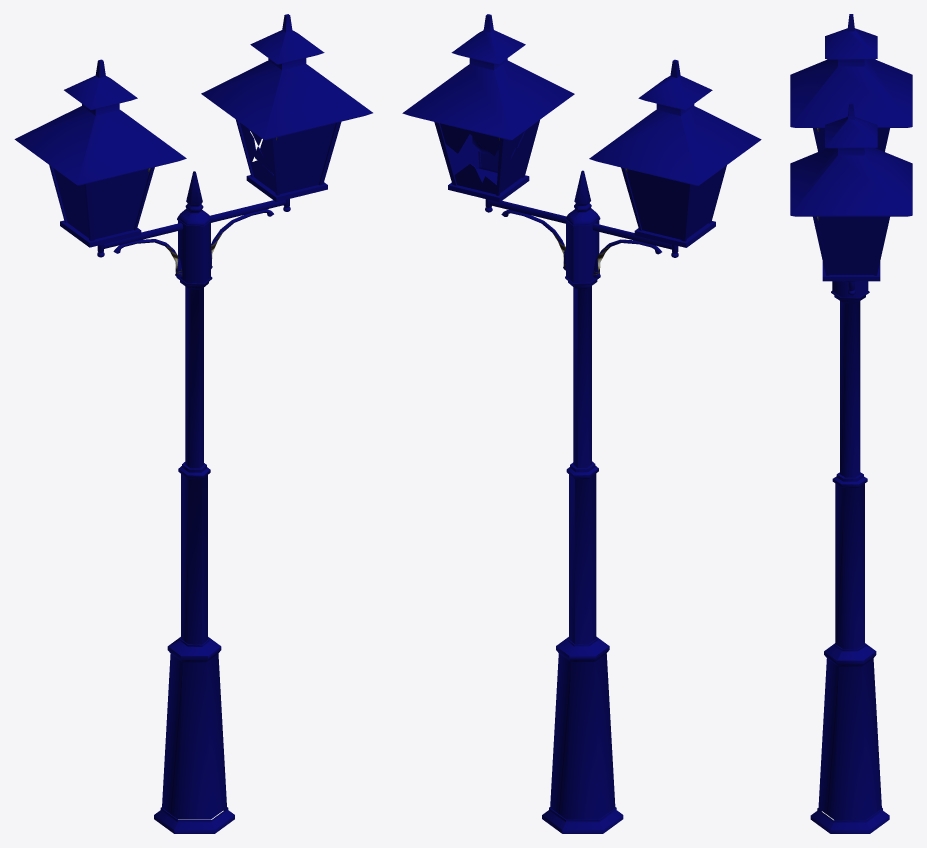
File: lamp_broke.fbx
3 views of the same model, side by side, from view 1: azimuth 30°, elevation 25°; view 2: azimuth 150°, elevation 25°; view 3: azimuth 270°, elevation 25° (orthographic). The views are drawn at different scales.
Visible parts, largest first — view 1: Mesh Object; view 2: Mesh Object; view 3: Mesh Object.
Boxes of the visible parts, x1,y1,x2,y2 form: Mesh Object: (14,14,372,833); Mesh Object: (402,14,761,833); Mesh Object: (790,14,912,833).
Size of the model in its own units: 1.61 by 4.07 by 0.5943.
